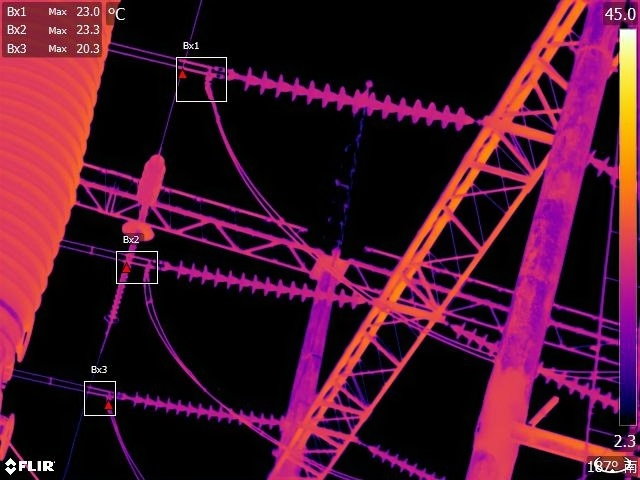clamp: (198, 61, 222, 86), (138, 255, 156, 277), (99, 384, 114, 403)
insulator: (226, 50, 479, 137), (452, 326, 618, 412), (161, 249, 379, 308), (118, 385, 282, 433), (367, 439, 449, 480), (129, 145, 175, 212), (102, 265, 133, 327), (586, 144, 617, 193)
